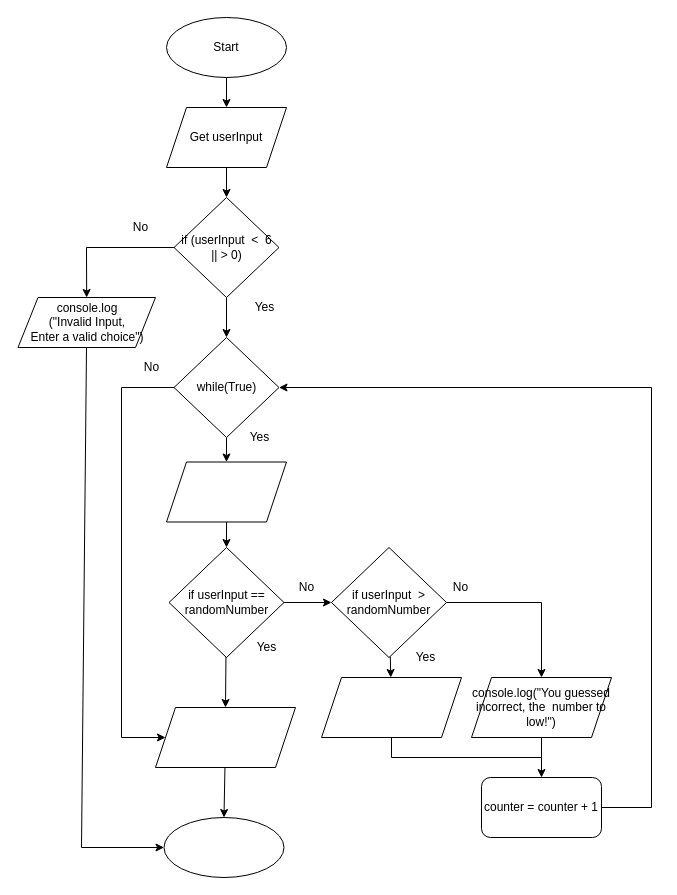
This 677x895 diagram has some shape labels left out. The shapes that lost their labels are listed below. From the top down, each one's centre as x and y in pixels, then its label:
point 226,491: Get randomNumber
point 391,707: console.log("You guessed incorrect, the number to high!")
point 225,737: console.log("You guessed correct!")
point 223,847: Stop
